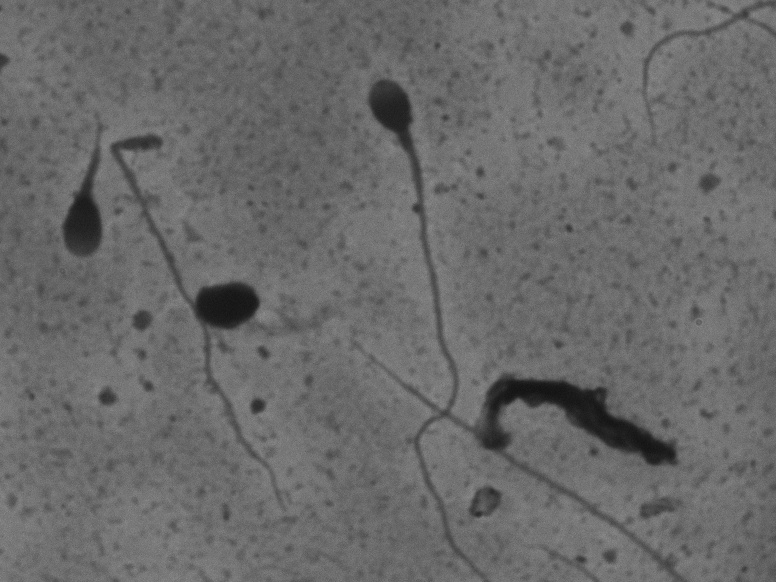Abnormal: (21, 104, 112, 272)
Normal: (355, 76, 479, 579)
